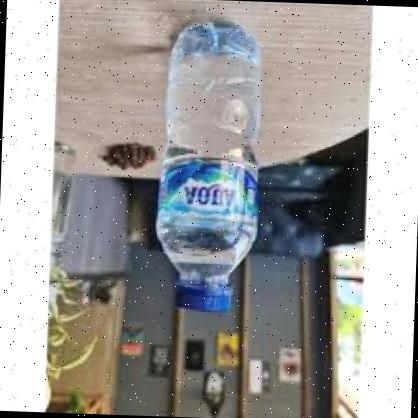bottle: (136, 16, 294, 324)
cap: (169, 277, 236, 315)
label: (155, 155, 279, 217)
